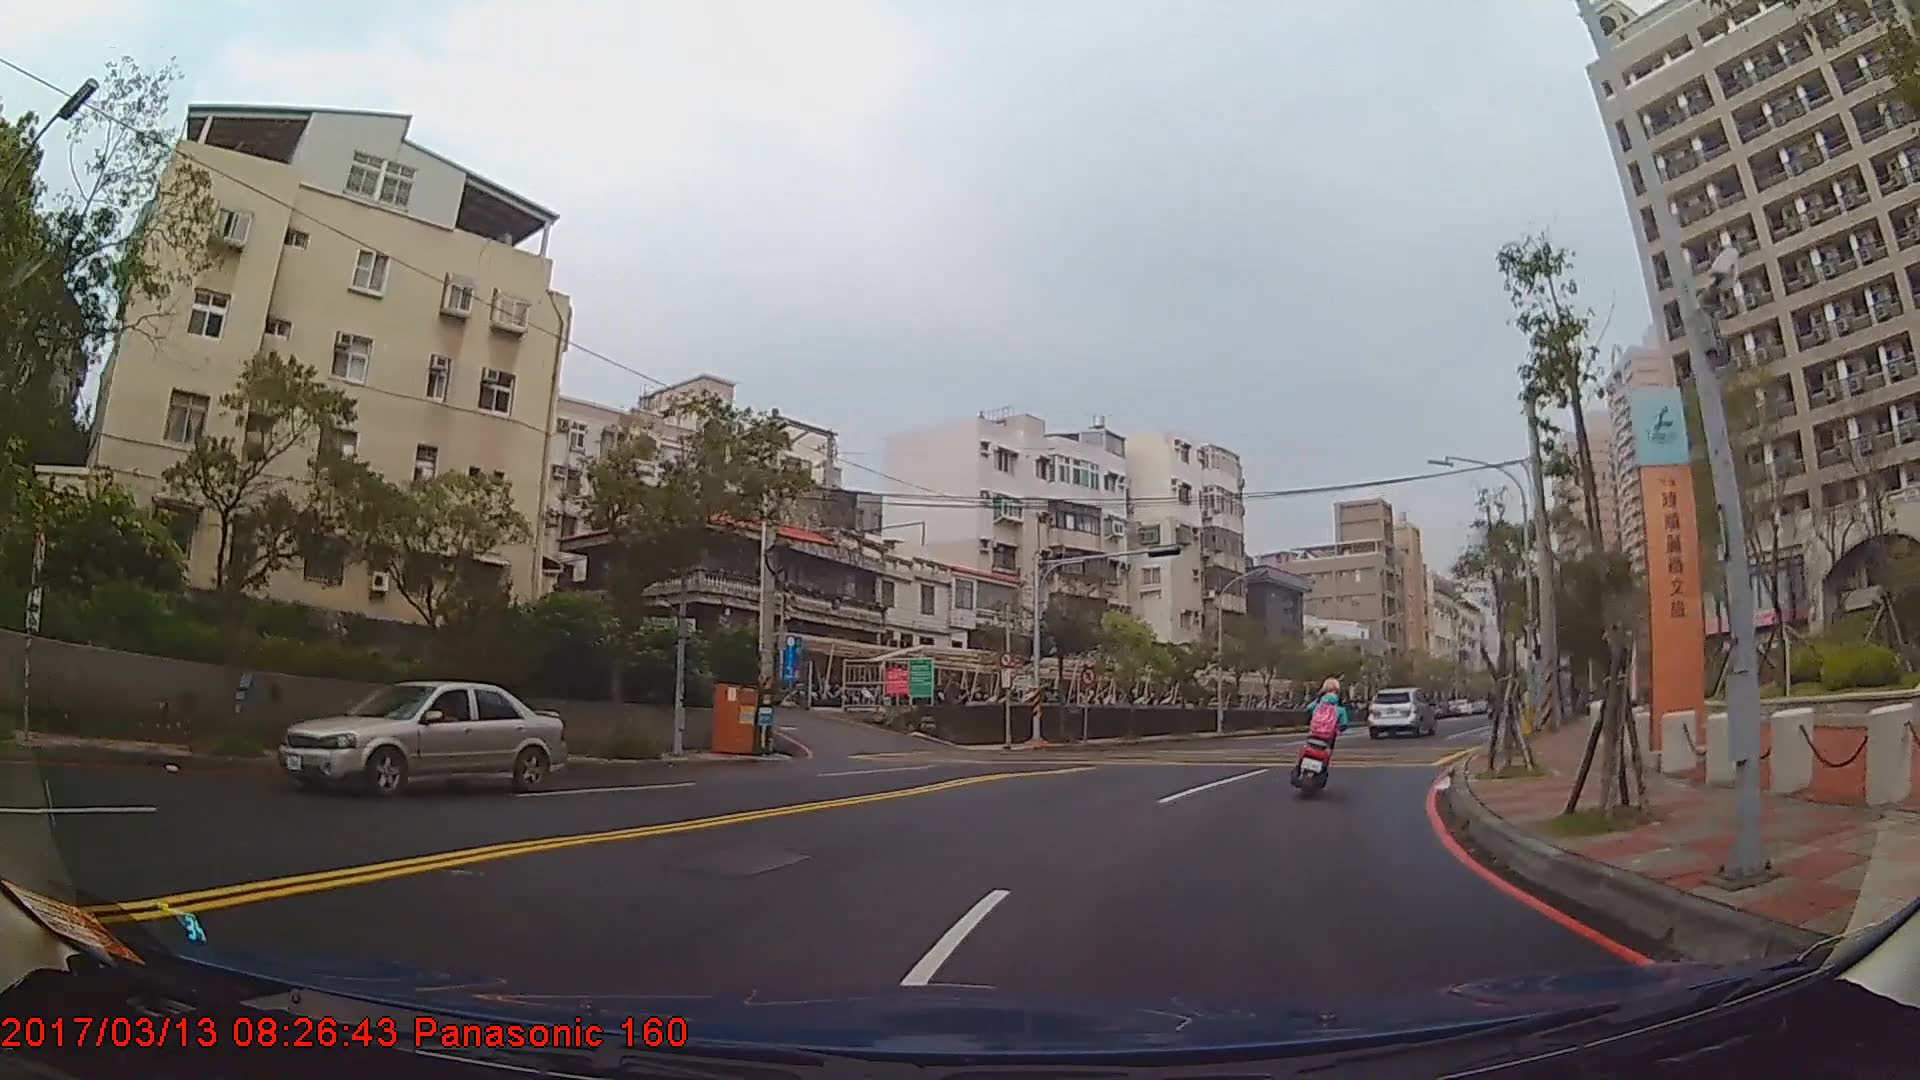rider: (1294, 675, 1353, 793)
vehicle: (275, 679, 566, 797), (1366, 685, 1432, 737)
